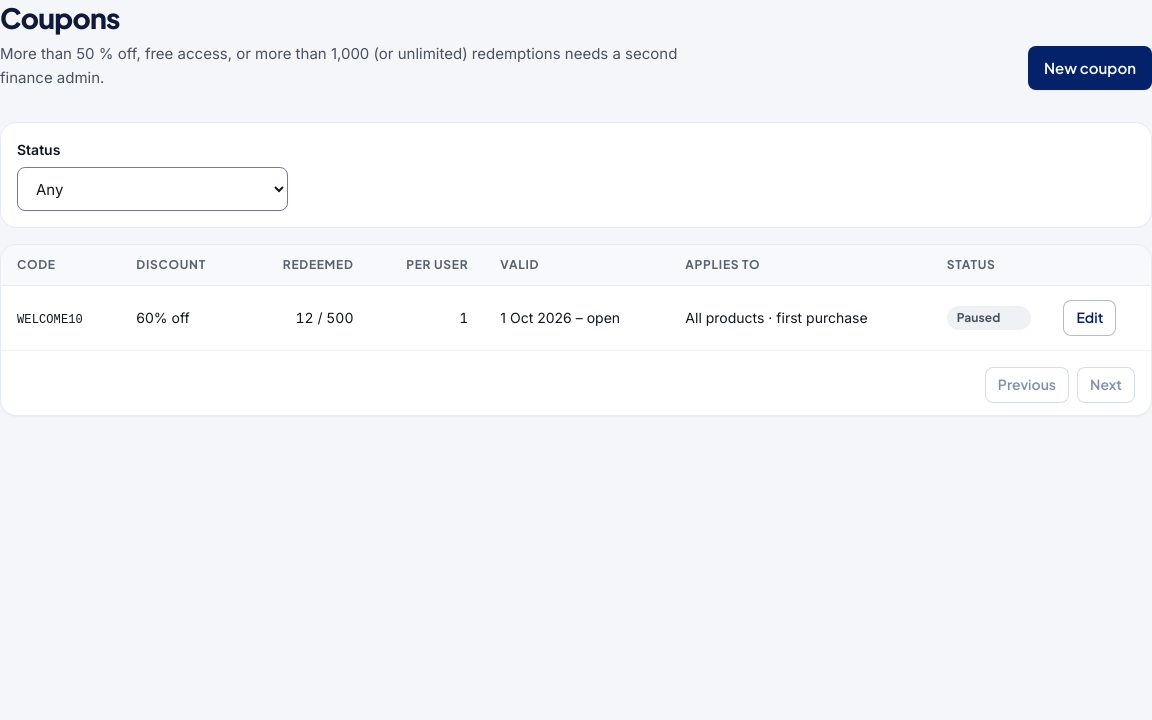
it: Coupons (FIN-003, ADM-28) › shows second_approval_required when a PATCH would loosen a big coupon
The width and height of the screenshot is (1152, 720).
Click the button with aria-label "Edit coupon WELCOME10": (1090, 318) [1063,300,1116,336]
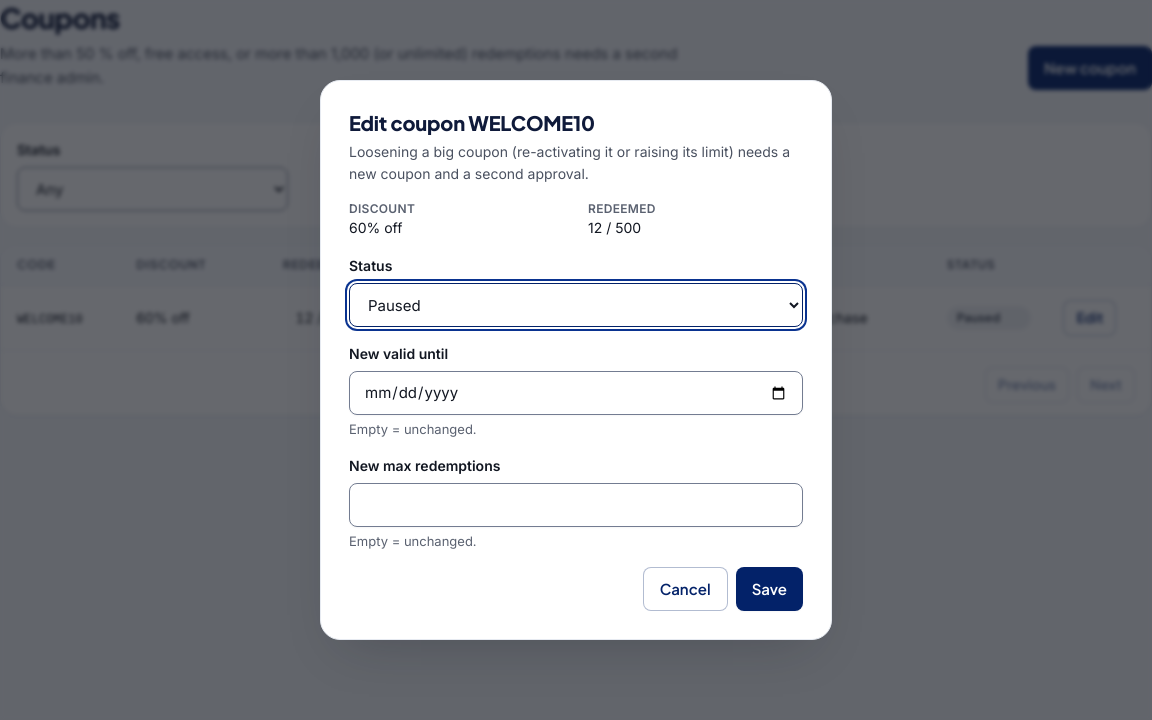
Select "Active" in the dropdown labelled "Status": (576, 305) [349,283,803,327]
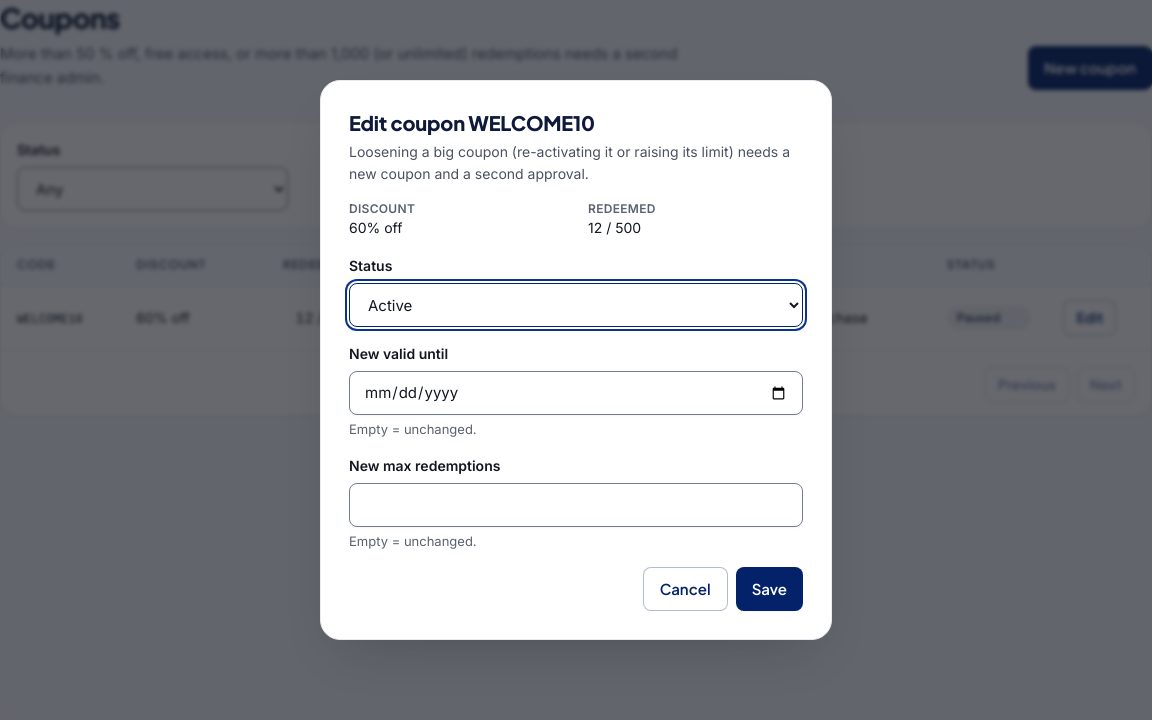
Click the button "Save": (769, 589) [736,567,803,611]
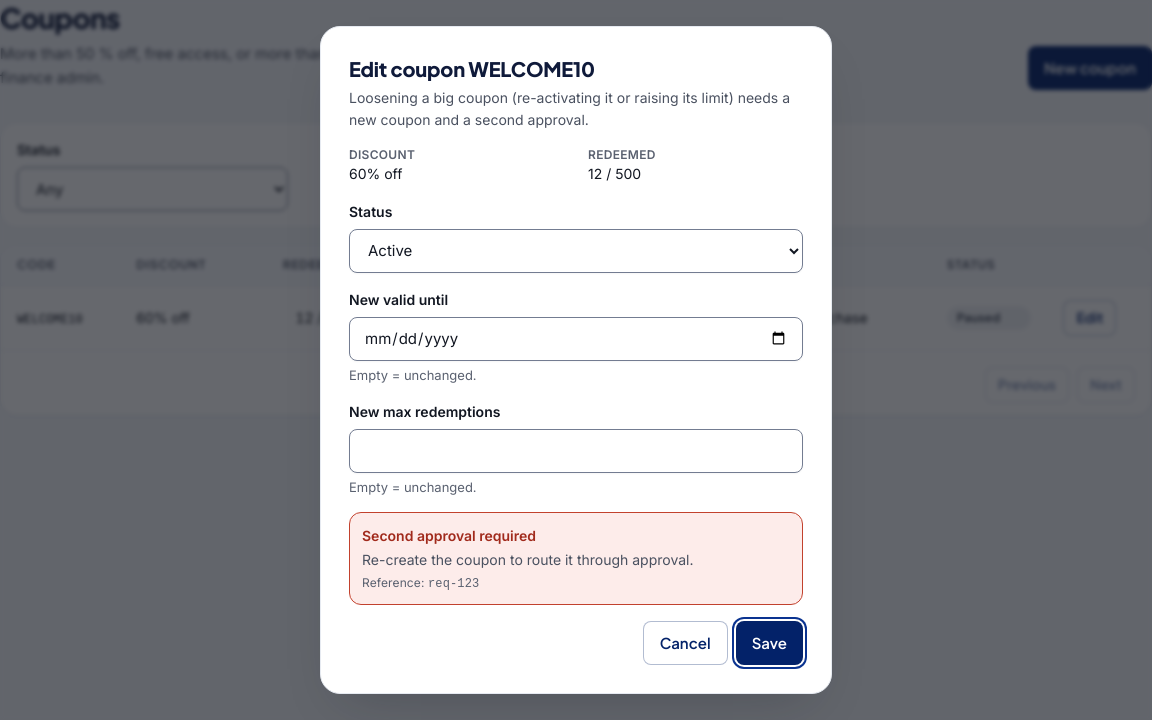
Expected: the text "Re-create the coupon to route it through approval." is shown, [362,551,694,568]
